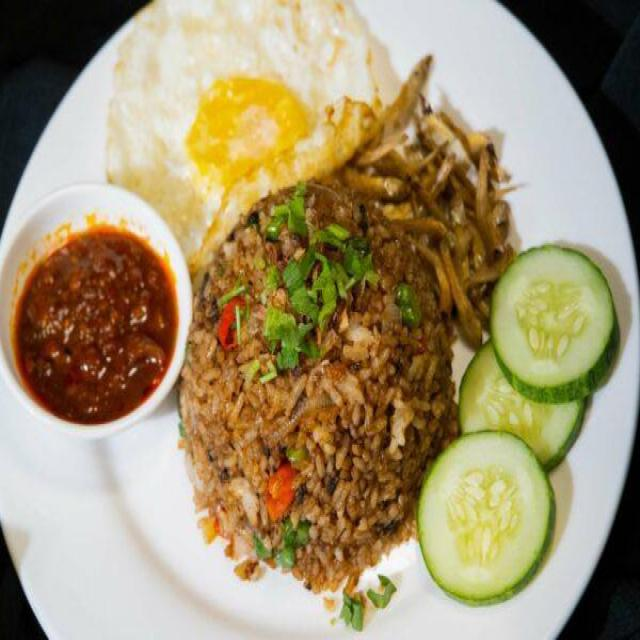Nasi Goreng: (185, 187, 454, 559)
